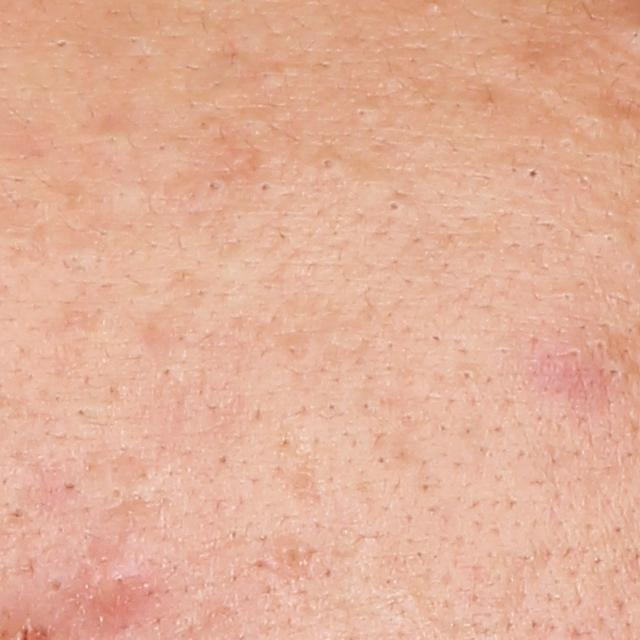comedo: (588, 331, 610, 356), (48, 575, 69, 598), (457, 364, 476, 385), (424, 1, 447, 18), (386, 197, 406, 215), (51, 36, 71, 53), (523, 165, 541, 183), (256, 178, 274, 195)
papule: (96, 559, 152, 619)
